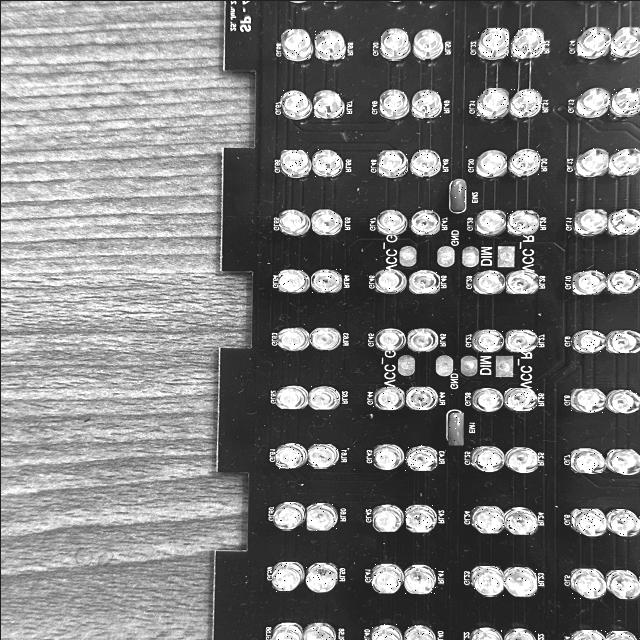EMC filter: (450, 178, 465, 211), (448, 412, 462, 444)
led: (570, 568, 604, 598), (502, 566, 536, 596), (605, 569, 640, 598), (574, 87, 609, 116), (370, 563, 403, 593), (577, 26, 610, 56), (569, 508, 605, 535), (477, 27, 508, 58), (470, 566, 502, 596), (304, 562, 336, 592), (476, 88, 508, 118), (379, 27, 409, 59), (605, 508, 639, 536), (574, 147, 608, 175), (271, 562, 302, 592), (404, 564, 436, 593), (503, 506, 536, 534), (605, 448, 640, 474), (280, 28, 310, 58), (412, 28, 442, 58), (610, 26, 640, 56), (272, 502, 304, 530), (510, 28, 542, 56), (508, 88, 541, 115), (314, 29, 344, 58), (475, 148, 506, 176), (609, 88, 640, 116), (404, 504, 436, 531), (570, 448, 606, 472), (570, 388, 606, 412), (608, 147, 640, 174), (470, 506, 503, 532), (274, 442, 307, 468), (572, 269, 606, 294), (280, 89, 309, 118), (306, 502, 336, 530), (372, 503, 402, 531), (409, 148, 439, 176), (313, 89, 343, 117), (508, 148, 539, 175), (404, 444, 436, 470), (608, 208, 640, 234), (604, 329, 640, 352), (470, 446, 503, 471), (503, 388, 537, 412), (411, 88, 440, 116), (376, 149, 406, 176), (378, 89, 408, 116), (504, 447, 536, 472), (306, 443, 338, 468), (607, 268, 639, 293), (505, 269, 538, 293), (312, 148, 340, 176), (605, 389, 639, 412), (471, 386, 502, 411), (570, 330, 605, 352), (307, 384, 339, 408), (308, 327, 340, 351), (406, 269, 438, 293), (472, 269, 504, 293), (574, 209, 606, 233), (373, 444, 403, 469), (474, 209, 504, 234), (408, 209, 438, 234), (406, 327, 437, 351), (277, 326, 308, 350), (275, 385, 307, 408), (372, 386, 404, 409), (405, 386, 437, 409), (506, 210, 538, 233), (278, 209, 307, 234), (310, 268, 340, 292), (374, 269, 405, 292), (505, 329, 537, 351), (280, 150, 307, 176), (311, 209, 339, 234), (376, 209, 405, 233), (471, 329, 502, 351), (374, 328, 405, 350), (278, 269, 308, 291), (303, 622, 334, 640), (270, 622, 301, 640), (370, 623, 401, 640), (404, 624, 434, 640), (470, 626, 503, 640), (504, 627, 536, 640), (570, 629, 604, 640), (605, 630, 638, 640)
